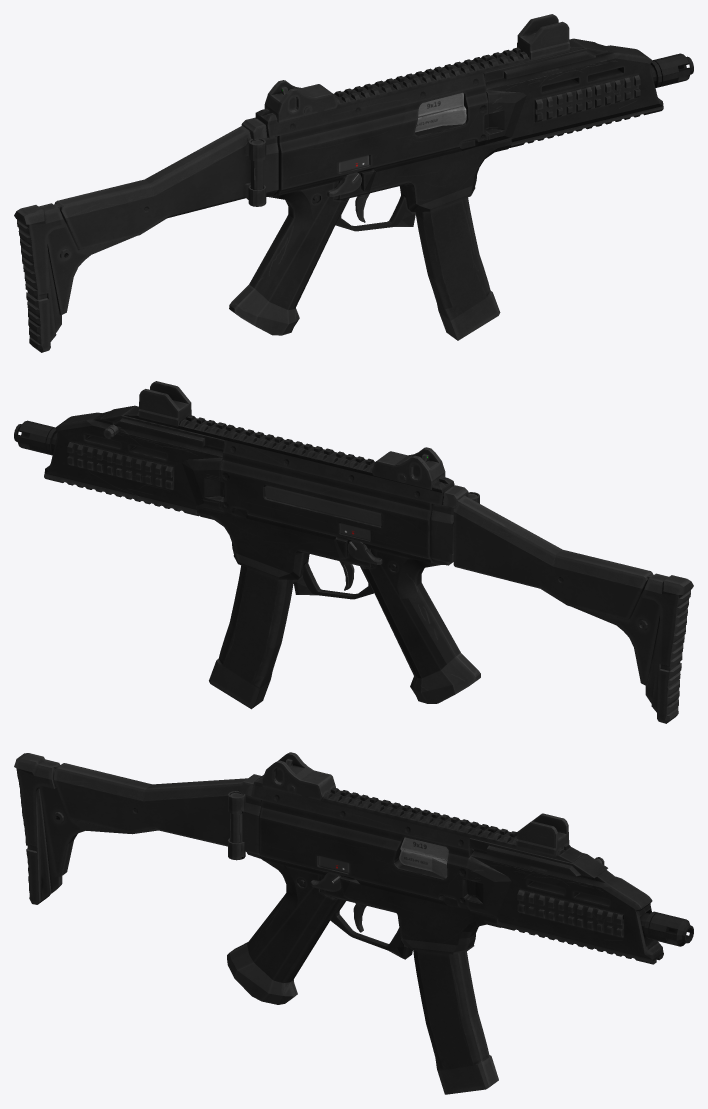
File: scr_evo_r.obj
The picture shows the model from 3 angles, top to bottom: view 1: azimuth 30°, elevation 25°; view 2: azimuth 150°, elevation 25°; view 3: azimuth 330°, elevation 25°; orthographic projection.
Visible parts, largest first — view 1: receiv_Plane.001, gripfrec_Plane.002, stock_Plane.005, ace_Plane.006, mag_Plane.004, laras_Cylinder; view 2: receiv_Plane.001, gripfrec_Plane.002, stock_Plane.005, mag_Plane.004, ace_Plane.006, laras_Cylinder; view 3: gripfrec_Plane.002, receiv_Plane.001, stock_Plane.005, mag_Plane.004, ace_Plane.006, laras_Cylinder.
Boxes of the visible parts, x1,y1,x2,y2 form: receiv_Plane.001: (255,39,584,211); gripfrec_Plane.002: (229,38,663,335); stock_Plane.005: (14,125,266,352); ace_Plane.006: (241,14,569,222); mag_Plane.004: (415,197,500,340); laras_Cylinder: (651,53,693,87); receiv_Plane.001: (124,406,454,579); gripfrec_Plane.002: (44,405,480,703); stock_Plane.005: (453,492,693,723); mag_Plane.004: (209,565,293,709); ace_Plane.006: (103,381,477,590); laras_Cylinder: (14,420,57,455); gripfrec_Plane.002: (227,838,663,1004); receiv_Plane.001: (251,775,583,954); stock_Plane.005: (14,753,247,904); mag_Plane.004: (413,950,498,1094); ace_Plane.006: (230,752,604,932); laras_Cylinder: (640,911,693,946).
Bounding box in the file's own units: 8.68 × 3.63 × 0.6661.
Materials: 6 (6 with a texture image).
